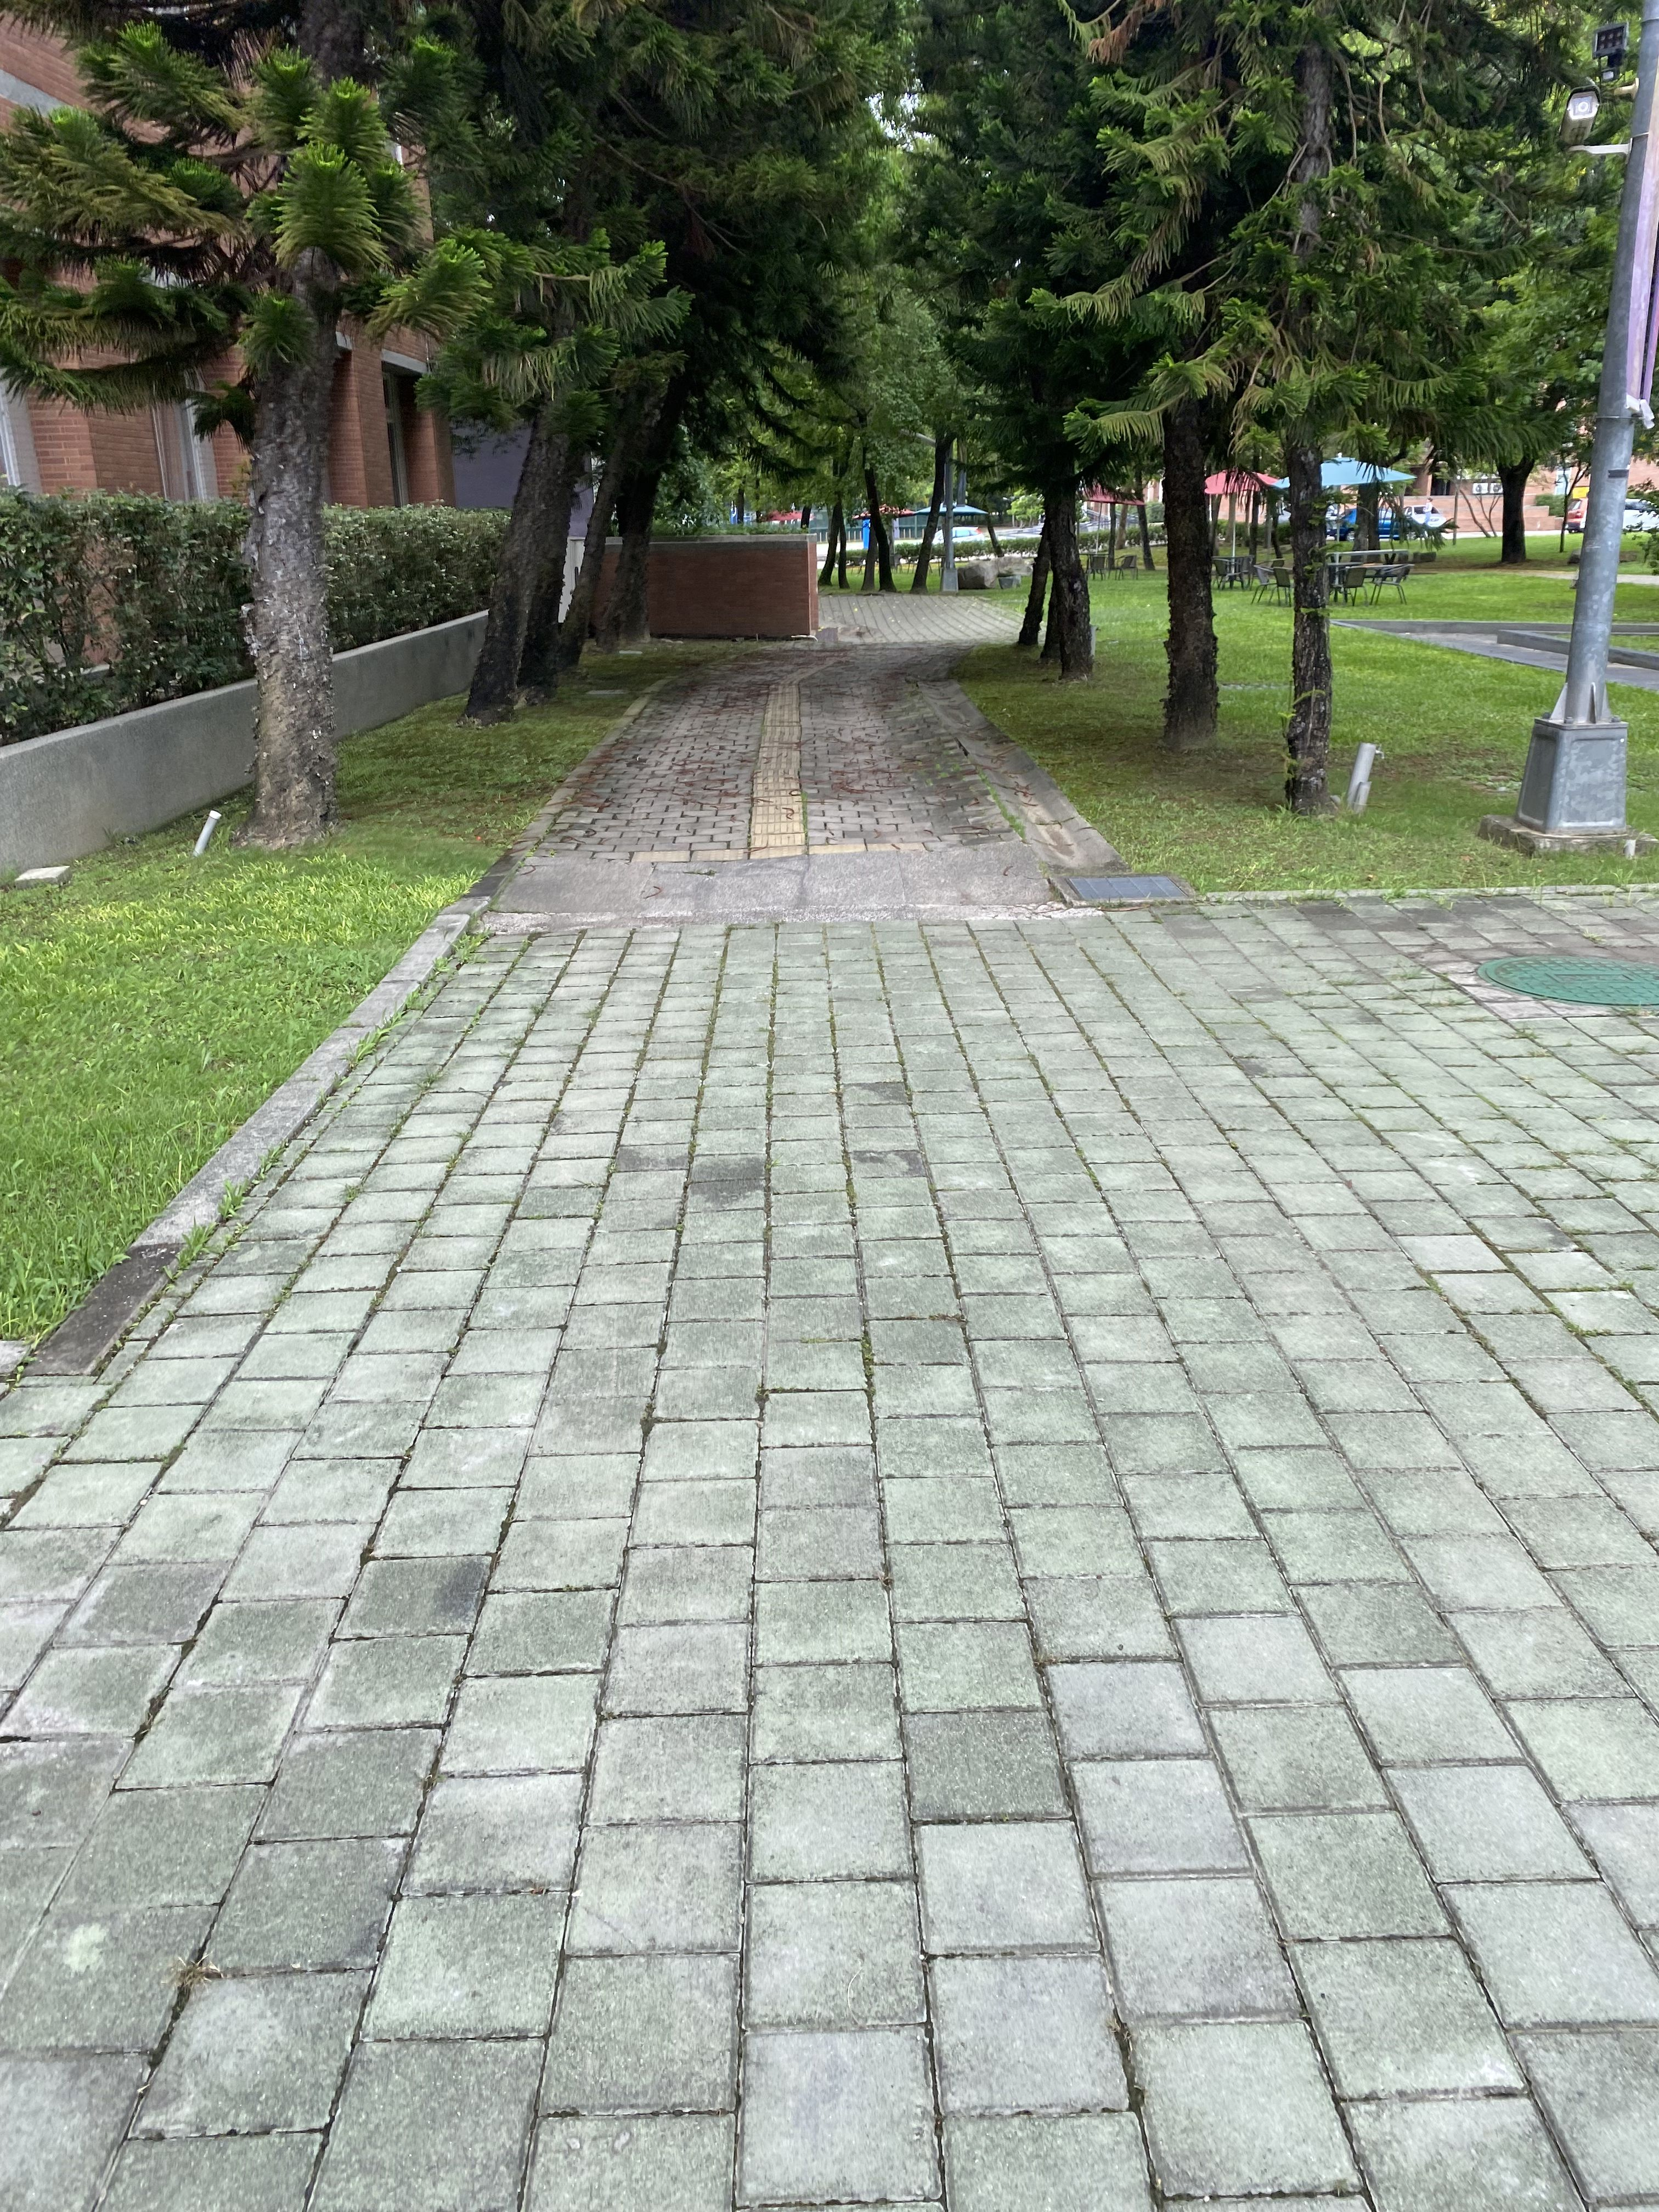sidewalk: (441, 601, 1216, 2207)
